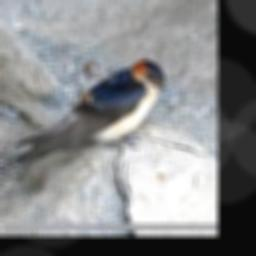Swallow: (0, 60, 166, 176)
